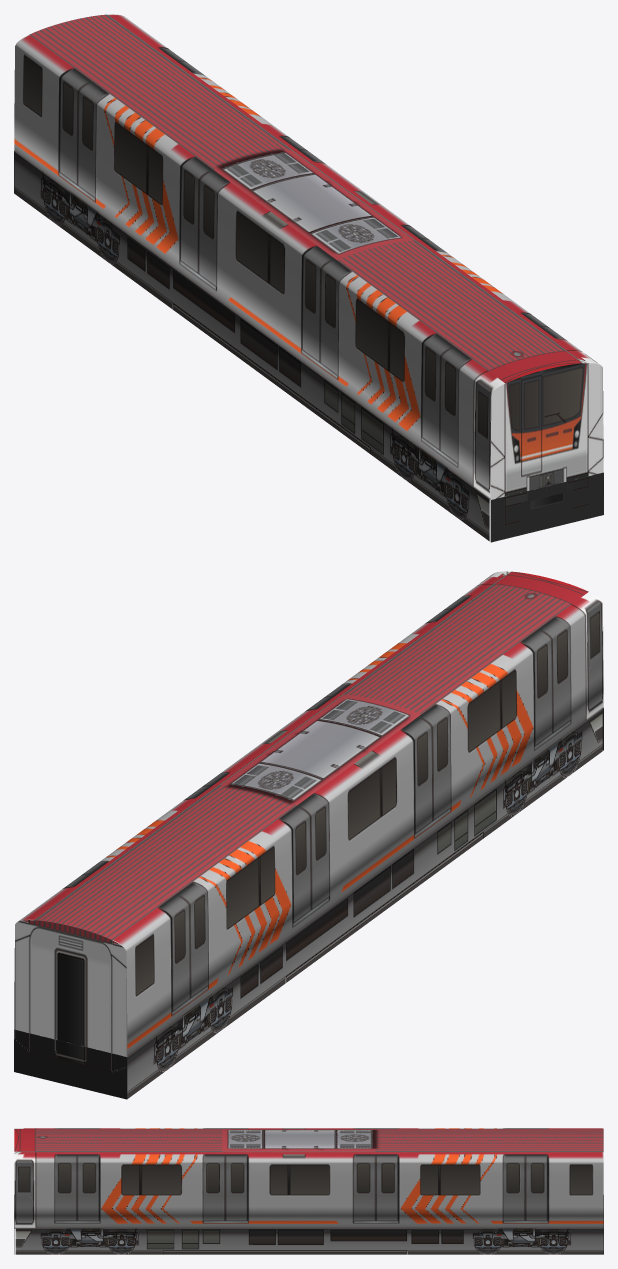
The model's file is car1.glb.
The picture shows the model from 3 angles, top to bottom: view 1: azimuth 30°, elevation 25°; view 2: azimuth 150°, elevation 25°; view 3: azimuth 270°, elevation 25°; orthographic projection. The views are drawn at different scales.
Parts seen in each view (by area): view 1: tokyu-6000-car1; view 2: tokyu-6000-car1; view 3: tokyu-6000-car1.
Boxes of the visible parts, box(x1,y1,x2,y2) form: tokyu-6000-car1: box(14, 14, 603, 542); tokyu-6000-car1: box(14, 571, 603, 1099); tokyu-6000-car1: box(14, 1128, 603, 1254).
Size of the model in its own units: 2.8 by 3.77 by 20.47.
8 materials, 7 textured.
